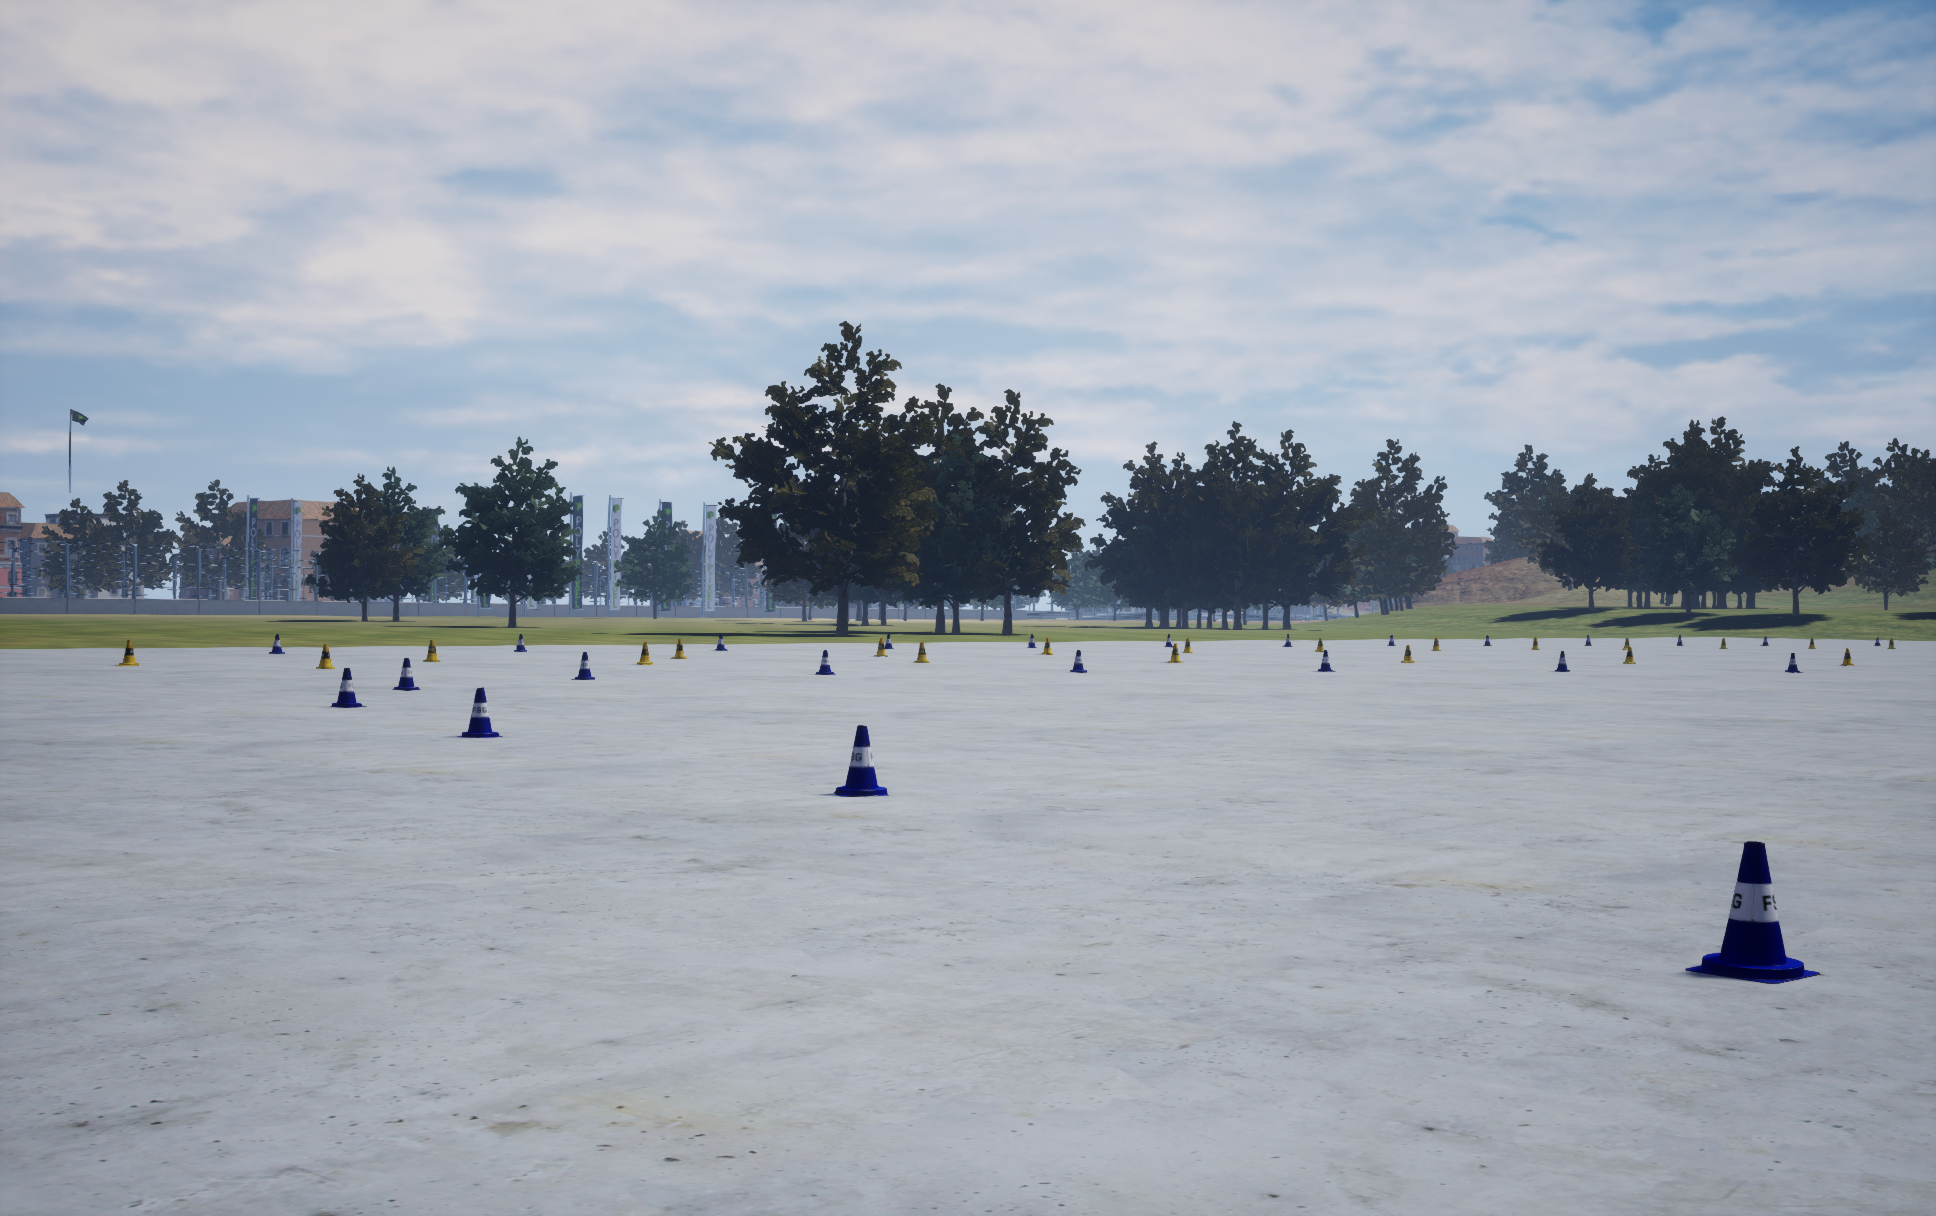blue: (118, 640, 139, 665), (317, 644, 333, 668), (423, 640, 440, 661), (670, 639, 686, 658), (913, 642, 929, 663), (637, 642, 651, 664), (1168, 643, 1182, 663), (874, 637, 887, 656)
yellow: (1685, 841, 1820, 983), (834, 726, 888, 796), (457, 686, 502, 737), (331, 668, 366, 707), (392, 658, 420, 691), (572, 651, 594, 679), (815, 650, 835, 674), (1318, 650, 1335, 671), (1070, 650, 1086, 672), (1785, 653, 1802, 672), (269, 635, 284, 653), (1555, 651, 1569, 671)
